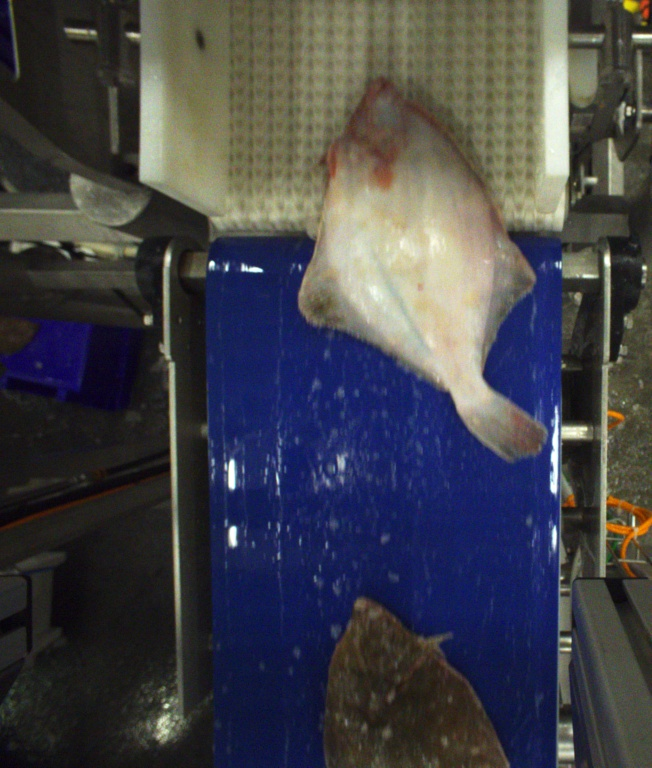PLE: (294, 76, 549, 465)
